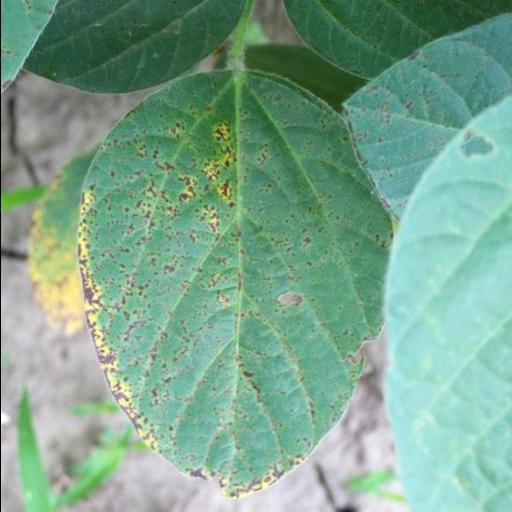Septoria: (74, 62, 382, 510)
